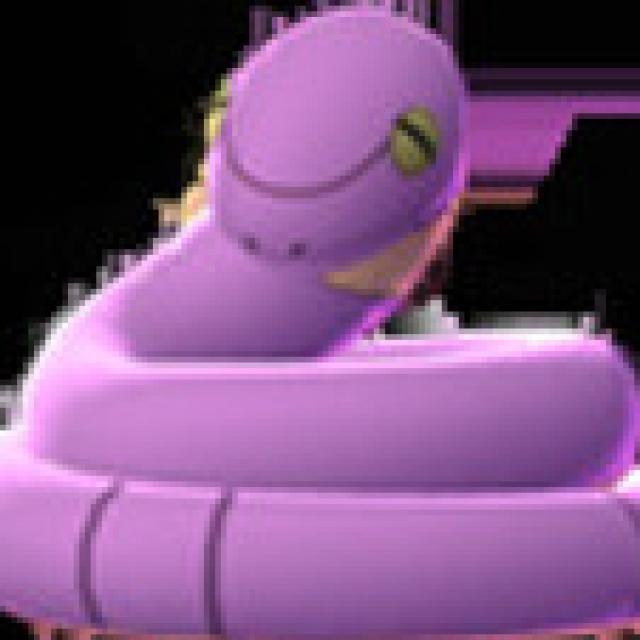Ekans: (12, 11, 640, 624)
